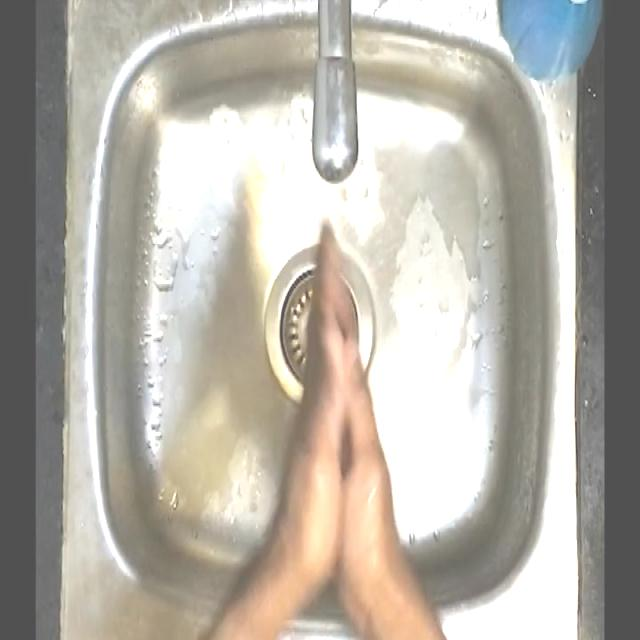step_1: (271, 208, 409, 554)
